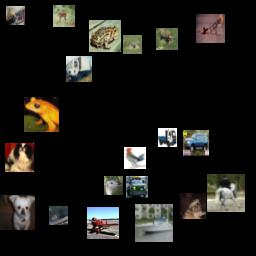airplane: (87, 207, 119, 239), (196, 14, 225, 43)
automobile: (183, 130, 209, 156)
bird: (124, 147, 146, 169), (49, 206, 68, 225), (104, 176, 123, 195)
cat: (6, 6, 25, 25)
deer: (53, 5, 75, 27), (123, 35, 142, 54)
dog: (0, 195, 35, 230), (5, 143, 34, 172), (180, 193, 206, 219), (156, 28, 178, 50)
frog: (24, 97, 59, 132), (89, 20, 121, 52)
ship: (135, 204, 173, 242)
truck: (66, 56, 92, 82), (126, 176, 148, 198), (158, 128, 177, 147)
